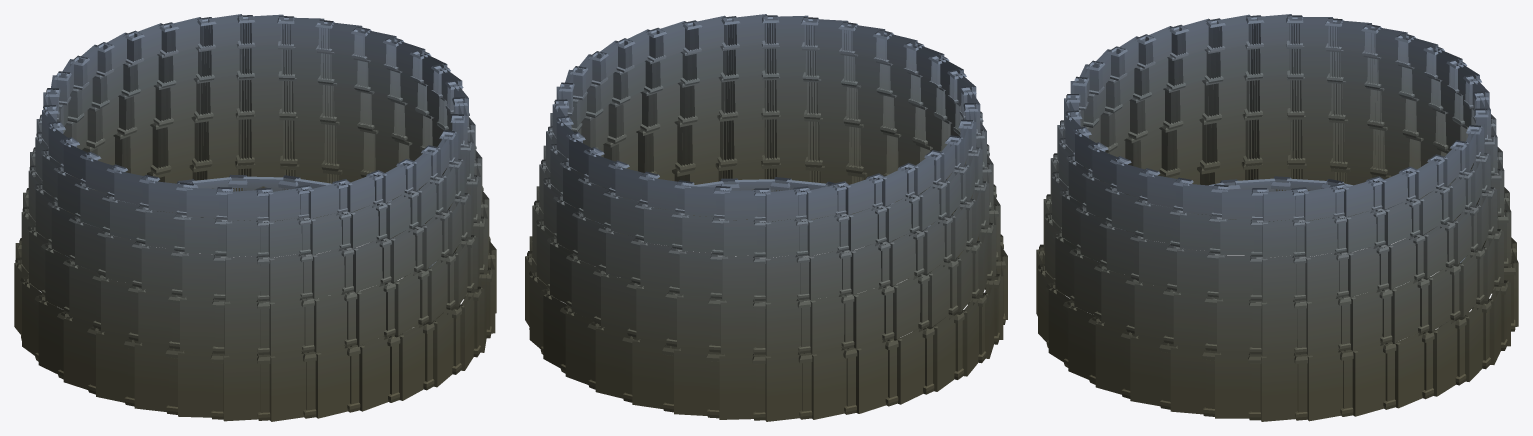
The model's file is WRLD_ARENAfbx.fbx.
3 views of the same model, side by side, from view 1: azimuth 30°, elevation 25°; view 2: azimuth 150°, elevation 25°; view 3: azimuth 270°, elevation 25° (orthographic).
Parts seen in each view (by area): view 1: Cube.025, Cube.024; view 2: Cube.025, Cube.024; view 3: Cube.025, Cube.024.
Part boxes in pixels (x1,y1,x2,y2): Cube.025: [14, 14, 496, 421]; Cube.024: [65, 174, 441, 333]; Cube.025: [525, 14, 1007, 421]; Cube.024: [595, 177, 944, 325]; Cube.025: [1036, 14, 1518, 421]; Cube.024: [1097, 176, 1469, 327].
Size of the model in its own units: 2059 by 1016 by 2059.
